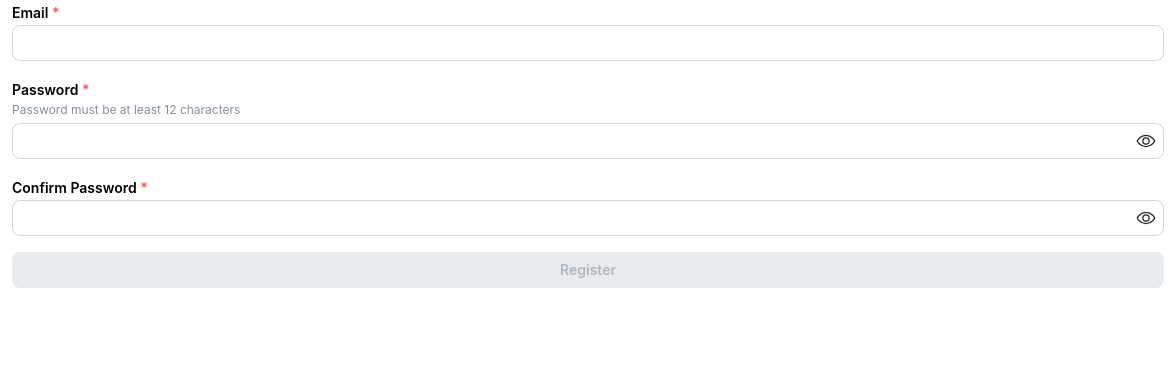
Test: RegisterForm › should show error on failed registration
Type "test@test.com" into the field labelled "Email *".
click(588, 43); type("test@test.com")  # box [12, 25, 1164, 61]
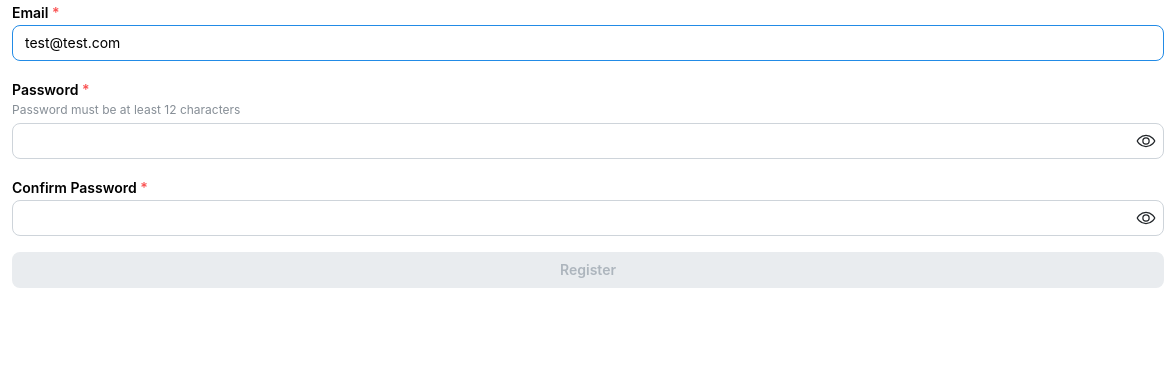
Type "SecureP@ss123!" into the password field labelled "Password *".
click(588, 141); type("SecureP@ss123!")  # box [13, 124, 1163, 158]
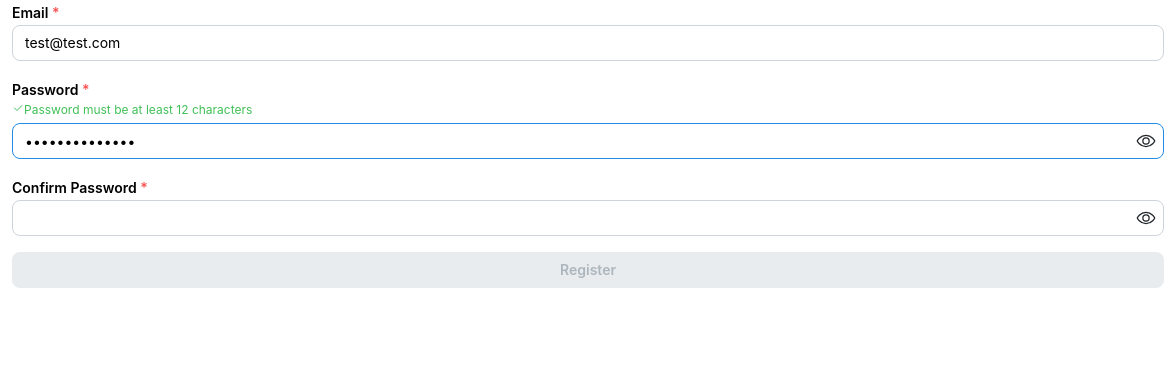
Type "SecureP@ss123!" into the password field labelled "Confirm Password *".
click(588, 218); type("SecureP@ss123!")  # box [13, 201, 1163, 235]
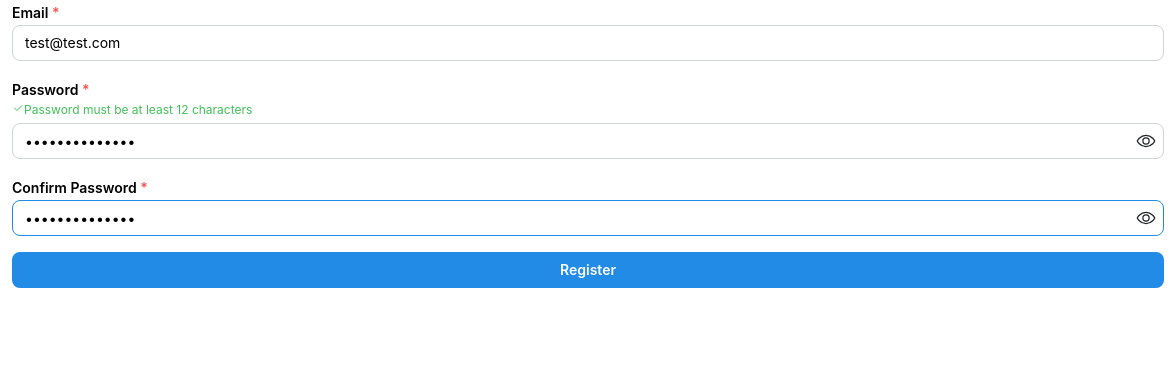
Click the button "Register".
click(588, 270)  # box [12, 252, 1164, 288]
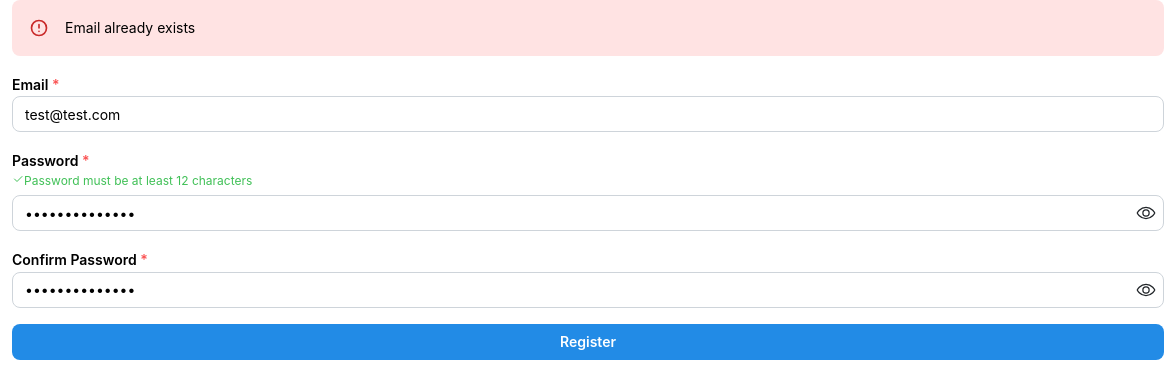
Result: the text "Email already exists" is shown at [65, 19, 195, 36]
